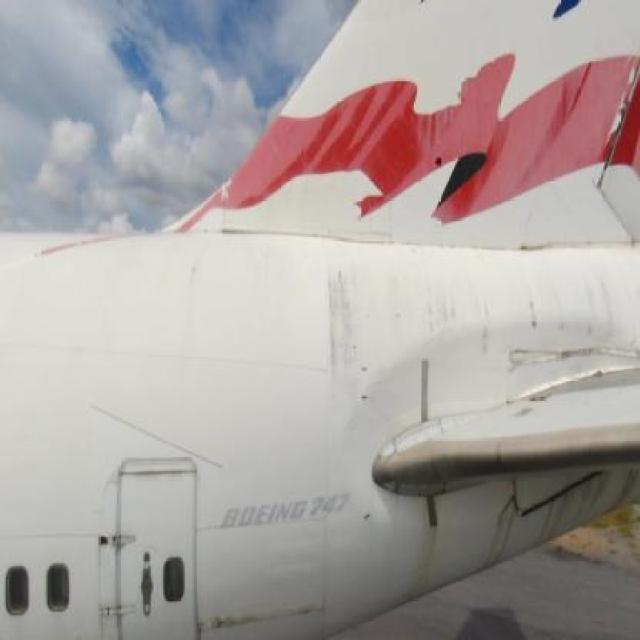Missing-Rivet: (396, 474, 462, 498), (391, 417, 452, 441)
Rust: (509, 246, 640, 354), (483, 476, 620, 575), (321, 243, 393, 422), (394, 242, 506, 353), (395, 494, 443, 600), (117, 460, 195, 495), (212, 612, 270, 636), (286, 585, 326, 618), (182, 251, 201, 289)
Scartch: (508, 338, 588, 382)
